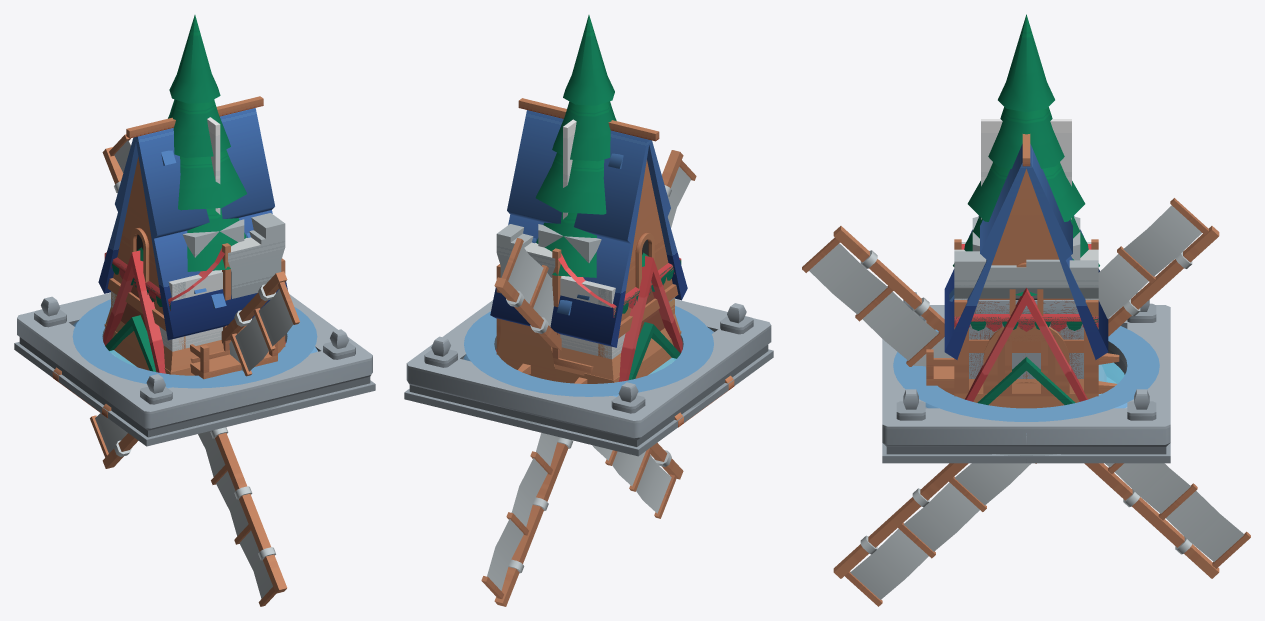
File: town2.glb
The picture shows the model from 3 angles, left to right: view 1: azimuth 30°, elevation 25°; view 2: azimuth 150°, elevation 25°; view 3: azimuth 270°, elevation 25°; orthographic projection. The views are drawn at different scales.
Visible parts, largest first — view 1: fountain-square, tower-slant-roof, windmill, tree-high, fountain-round, tower-square-base, wall-narrow-gate, roof-high-gable, stall-red, cart, roof-gable, tower-hexagon-base (+1 smaller); view 2: fountain-square, tower-slant-roof, windmill, tree-high, fountain-round, tower-square-base, wall-narrow-gate, roof-high-gable, stall-red, roof-gable, tower-hexagon-base, flag-banner-long; view 3: windmill, fountain-square, tower-slant-roof, tree-high, fountain-round, wall-narrow-gate, wall, wall-window-glass, roof-high-gable, wall-door, flag-banner-long, tower-square-base (+5 smaller).
Boxes of the visible parts, box(x1,y1,x2,y2) form: fountain-square: box(14, 292, 375, 446); tower-slant-roof: box(98, 96, 287, 340); windmill: box(90, 134, 299, 606); tree-high: box(137, 15, 246, 271); fountain-round: box(68, 299, 317, 416); tower-square-base: box(105, 270, 223, 375); wall-narrow-gate: box(228, 213, 285, 354); roof-high-gable: box(103, 250, 285, 373); stall-red: box(104, 243, 230, 362); cart: box(190, 342, 277, 379); roof-gable: box(105, 315, 156, 371); tower-hexagon-base: box(182, 219, 244, 257); fountain-square: box(404, 299, 773, 456); tower-slant-roof: box(490, 98, 687, 347); windmill: box(481, 150, 696, 606); tree-high: box(535, 15, 648, 277); fountain-round: box(463, 306, 717, 426); tower-square-base: box(555, 276, 680, 383); wall-narrow-gate: box(496, 224, 555, 381); roof-high-gable: box(496, 256, 682, 381); stall-red: box(552, 248, 681, 372); roof-gable: box(628, 322, 680, 380); tower-hexagon-base: box(538, 224, 601, 262); flag-banner-long: box(563, 119, 576, 219); windmill: box(802, 198, 1250, 606); fountain-square: box(882, 292, 1170, 463); tower-slant-roof: box(944, 134, 1108, 359); tree-high: box(953, 14, 1099, 295); fountain-round: box(893, 326, 1159, 462); wall-narrow-gate: box(954, 249, 1098, 299); wall: box(954, 300, 1098, 393); wall-window-glass: box(969, 300, 1083, 396); roof-high-gable: box(965, 288, 1105, 401); wall-door: box(969, 300, 1083, 393); flag-banner-long: box(981, 119, 1071, 219); tower-square-base: box(957, 242, 1095, 408).
Bounding box in the file's own units: 2 × 4.53 × 3.11.
3 materials, 2 textured.
